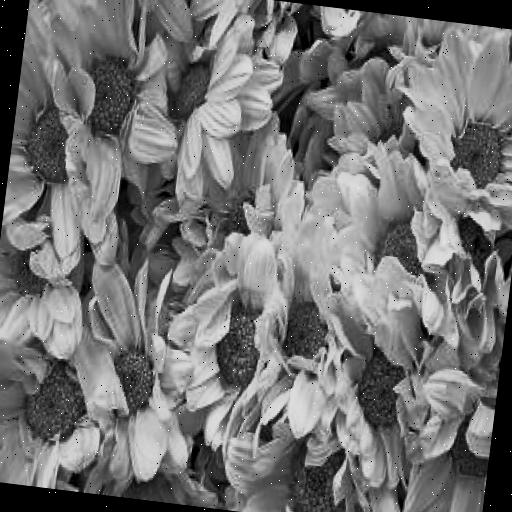sunflower: (312, 146, 474, 356), (66, 256, 198, 476), (389, 24, 512, 233), (228, 367, 399, 512), (0, 306, 131, 495), (178, 233, 300, 409), (399, 365, 499, 512)
